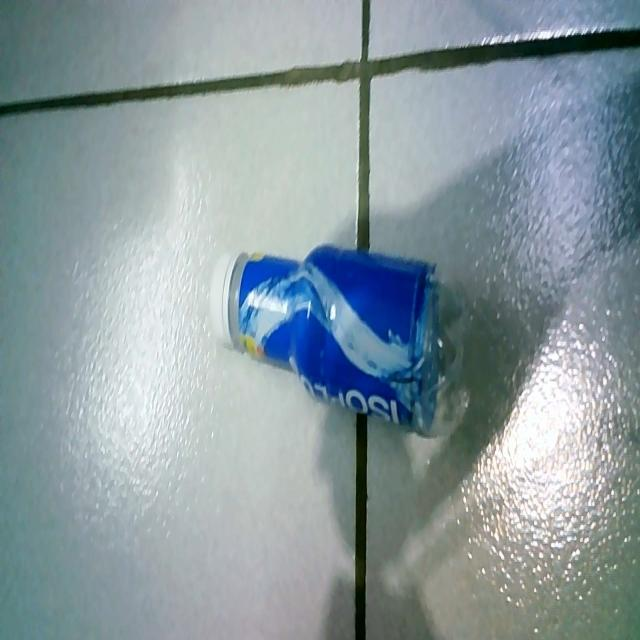botol: (205, 235, 474, 453)
